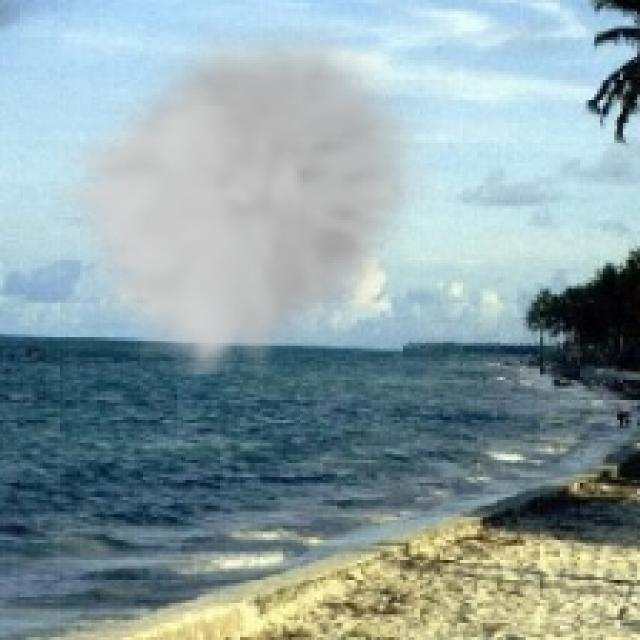smoke: (54, 26, 437, 374)
